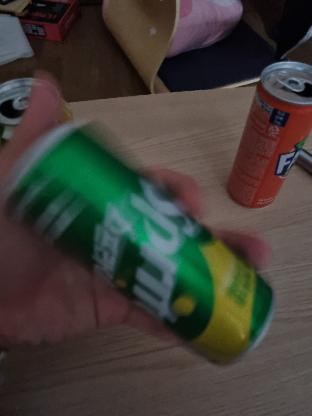Can: (18, 142, 262, 350)
